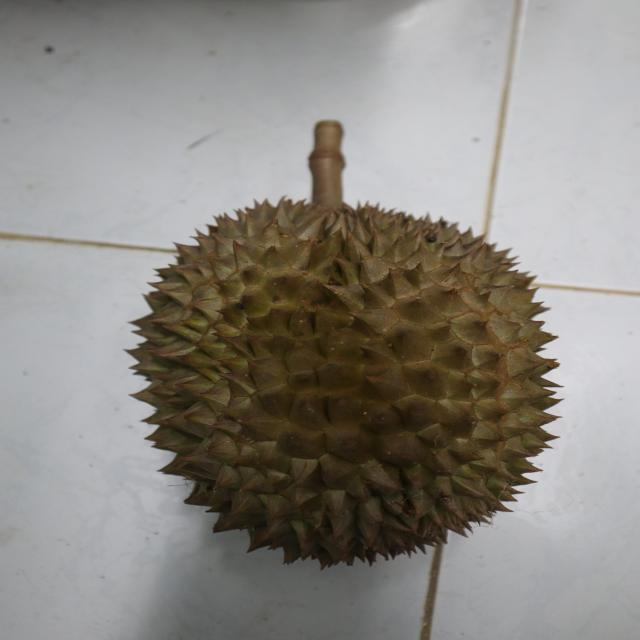mature: (122, 196, 567, 572)
